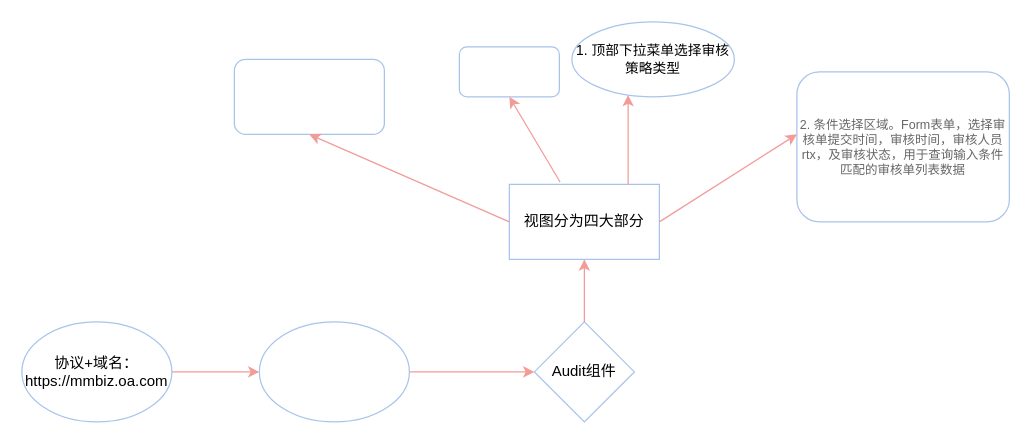
This 1031x444 diagram has some shape labels left out. Here are the shapes that lost their labels. From the top down, the centre of each, then its label:
At (508,71): "3. 领单退单操作区域".
At (308,96): "4. 详细信息区域".
At (333,371): "路由路径：/audit view：Audit".
